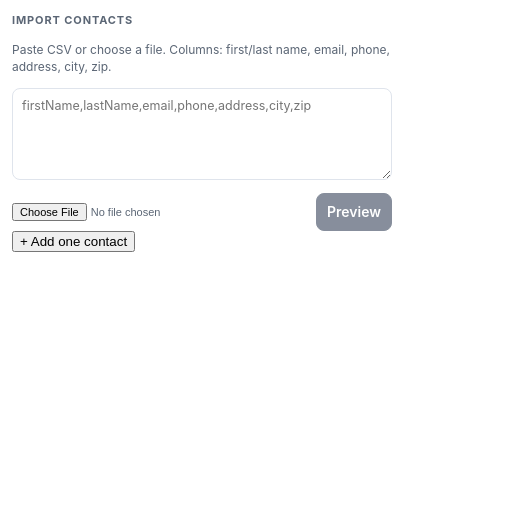
Test case: ImportPanel › adds a single contact through the quick-add form
Click the button "+ Add one contact".
click(74, 242)  # box [12,231,135,252]
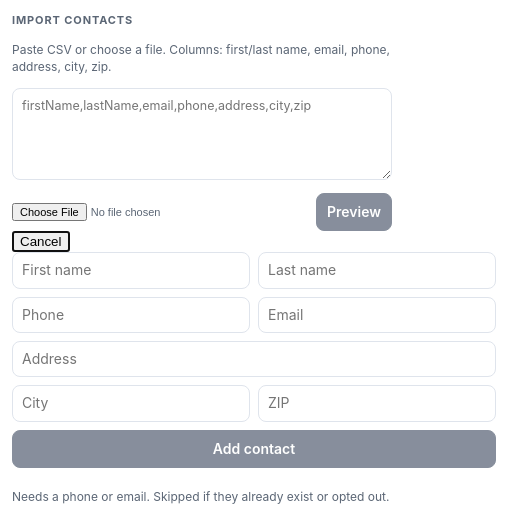
Type "Sam" into the field with placeholder "First name".
click(131, 270); type("Sam")  # box [12,252,250,289]
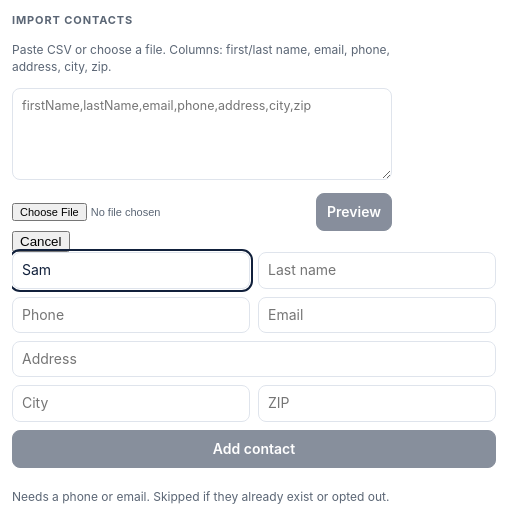
Type "Rivera" into the field with placeholder "Last name".
click(377, 270); type("Rivera")  # box [258,252,496,289]
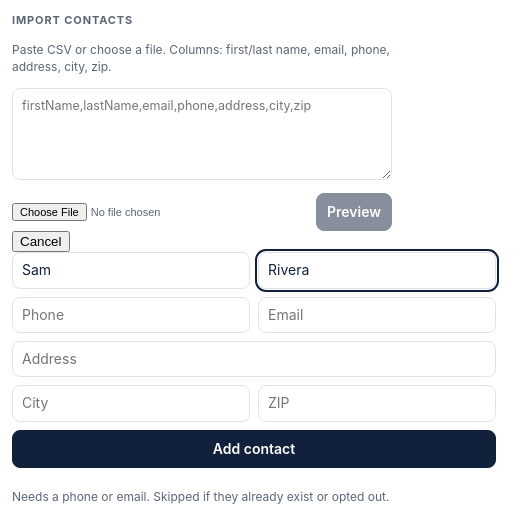
Type "3145551212" into the field with placeholder "Phone".
click(131, 315); type("3145551212")  # box [12,297,250,333]
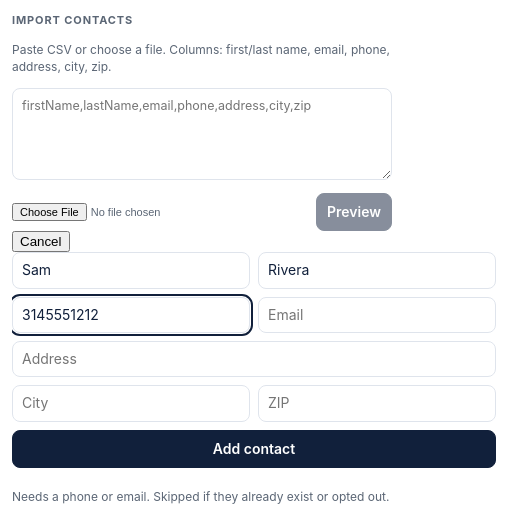
Click the button "Add contact".
click(254, 449)  # box [12,430,496,468]
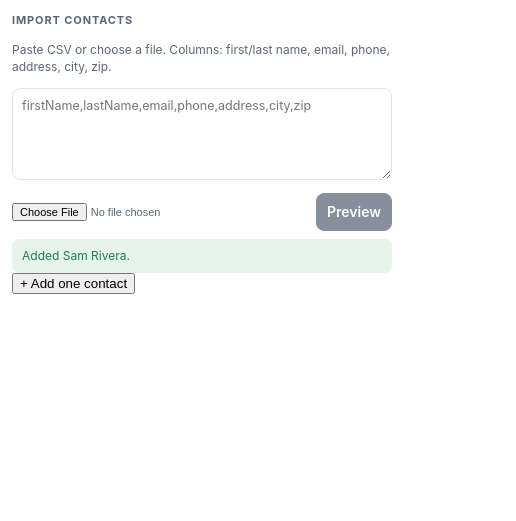
Result: the text "Added Sam Rivera." is shown at [12,239,392,273]
